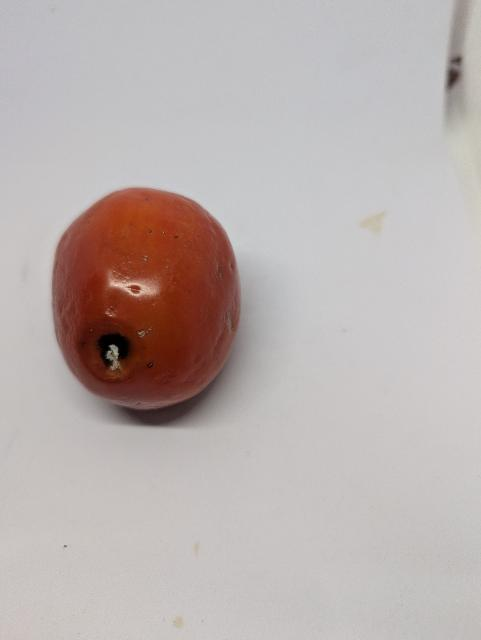defect: (49, 184, 246, 416)
